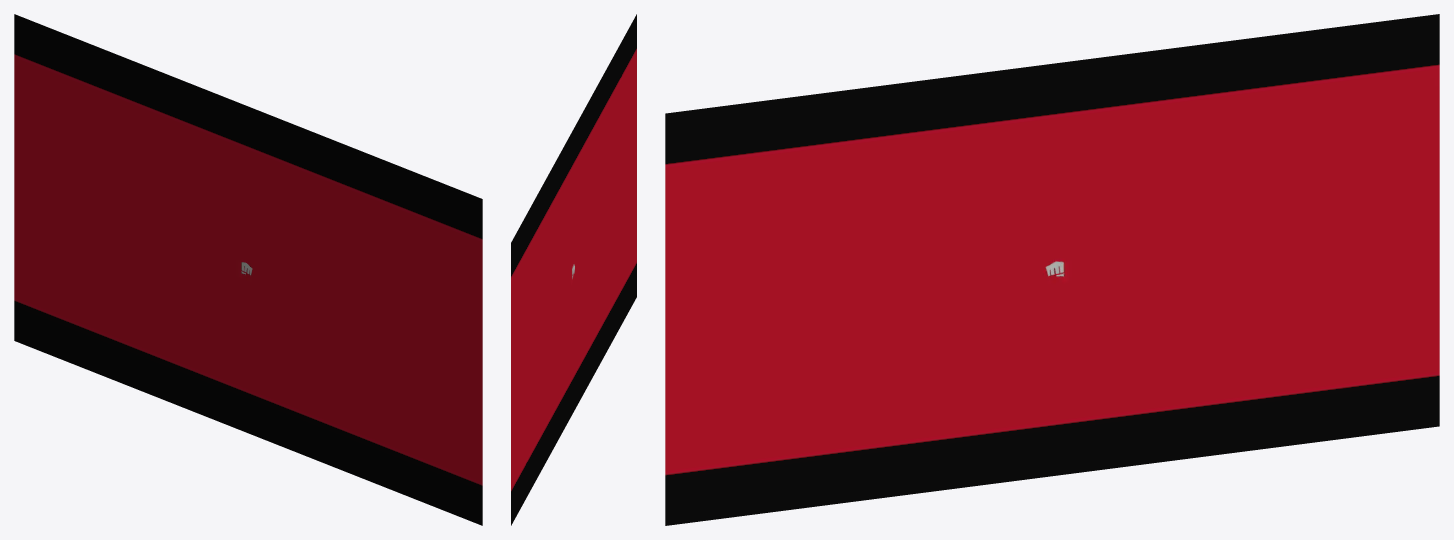
File: monitordisplay.glb
3 views of the same model, side by side, from view 1: azimuth 30°, elevation 25°; view 2: azimuth 150°, elevation 25°; view 3: azimuth 270°, elevation 25° (orthographic). The views are drawn at different scales.
Visible parts, largest first — view 1: Plane.007; view 2: Plane.007; view 3: Plane.007.
Part boxes in pixels (<box>): Plane.007: <box>14,14,482,525</box>; Plane.007: <box>511,14,636,525</box>; Plane.007: <box>665,14,1439,525</box>.
Bounding box in the file's own units: 0.4338 × 0.8383 × 1.43.
Materials: 1 (1 with a texture image).
